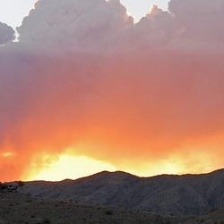fire: (18, 153, 224, 185)
